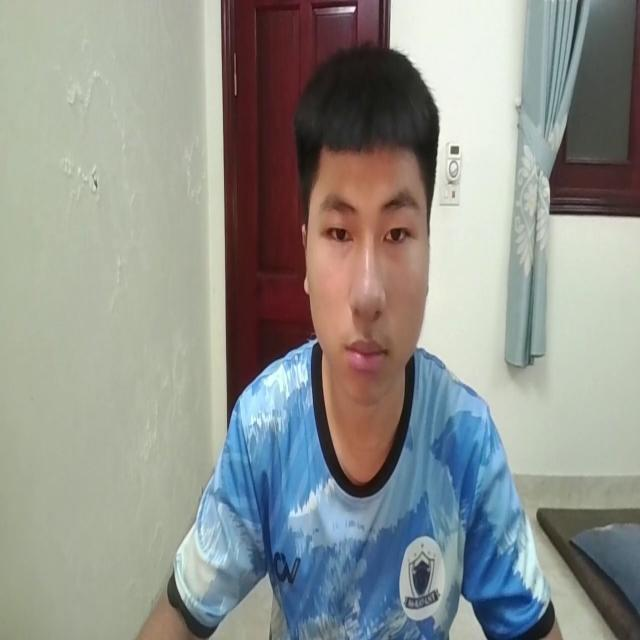student: (136, 44, 560, 640)
